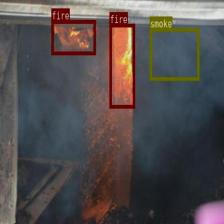fire: (109, 23, 134, 108), (51, 20, 95, 54)
smoke: (150, 27, 199, 80)
